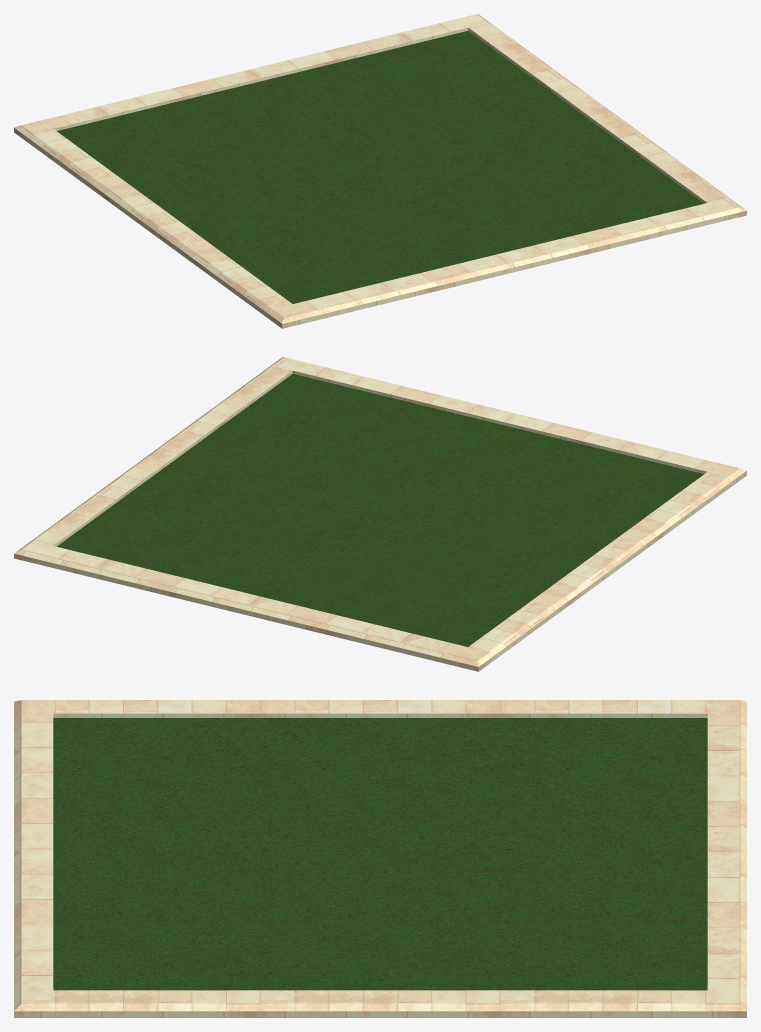
The model's file is SM_garden_12x12.glb.
The picture shows the model from 3 angles, top to bottom: view 1: azimuth 30°, elevation 25°; view 2: azimuth 150°, elevation 25°; view 3: azimuth 270°, elevation 25°; orthographic projection. The views are drawn at different scales.
Parts seen in each view (by area): view 1: SM_garden_12x12; view 2: SM_garden_12x12; view 3: SM_garden_12x12.
Part boxes in pixels (bbox=[...]): SM_garden_12x12: bbox=[14, 14, 746, 328]; SM_garden_12x12: bbox=[14, 357, 746, 671]; SM_garden_12x12: bbox=[14, 700, 746, 1017].
Bounding box in the file's own units: 12 × 0.2 × 12.
Materials: 2 (2 with a texture image).
